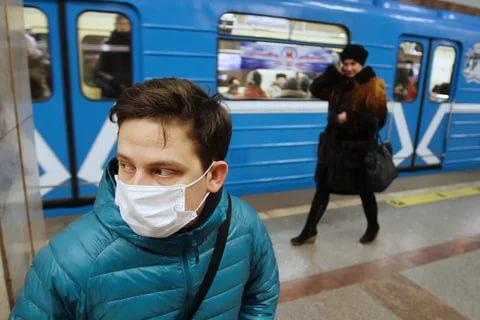mask: (110, 133, 207, 234)
none: (341, 55, 361, 74)
